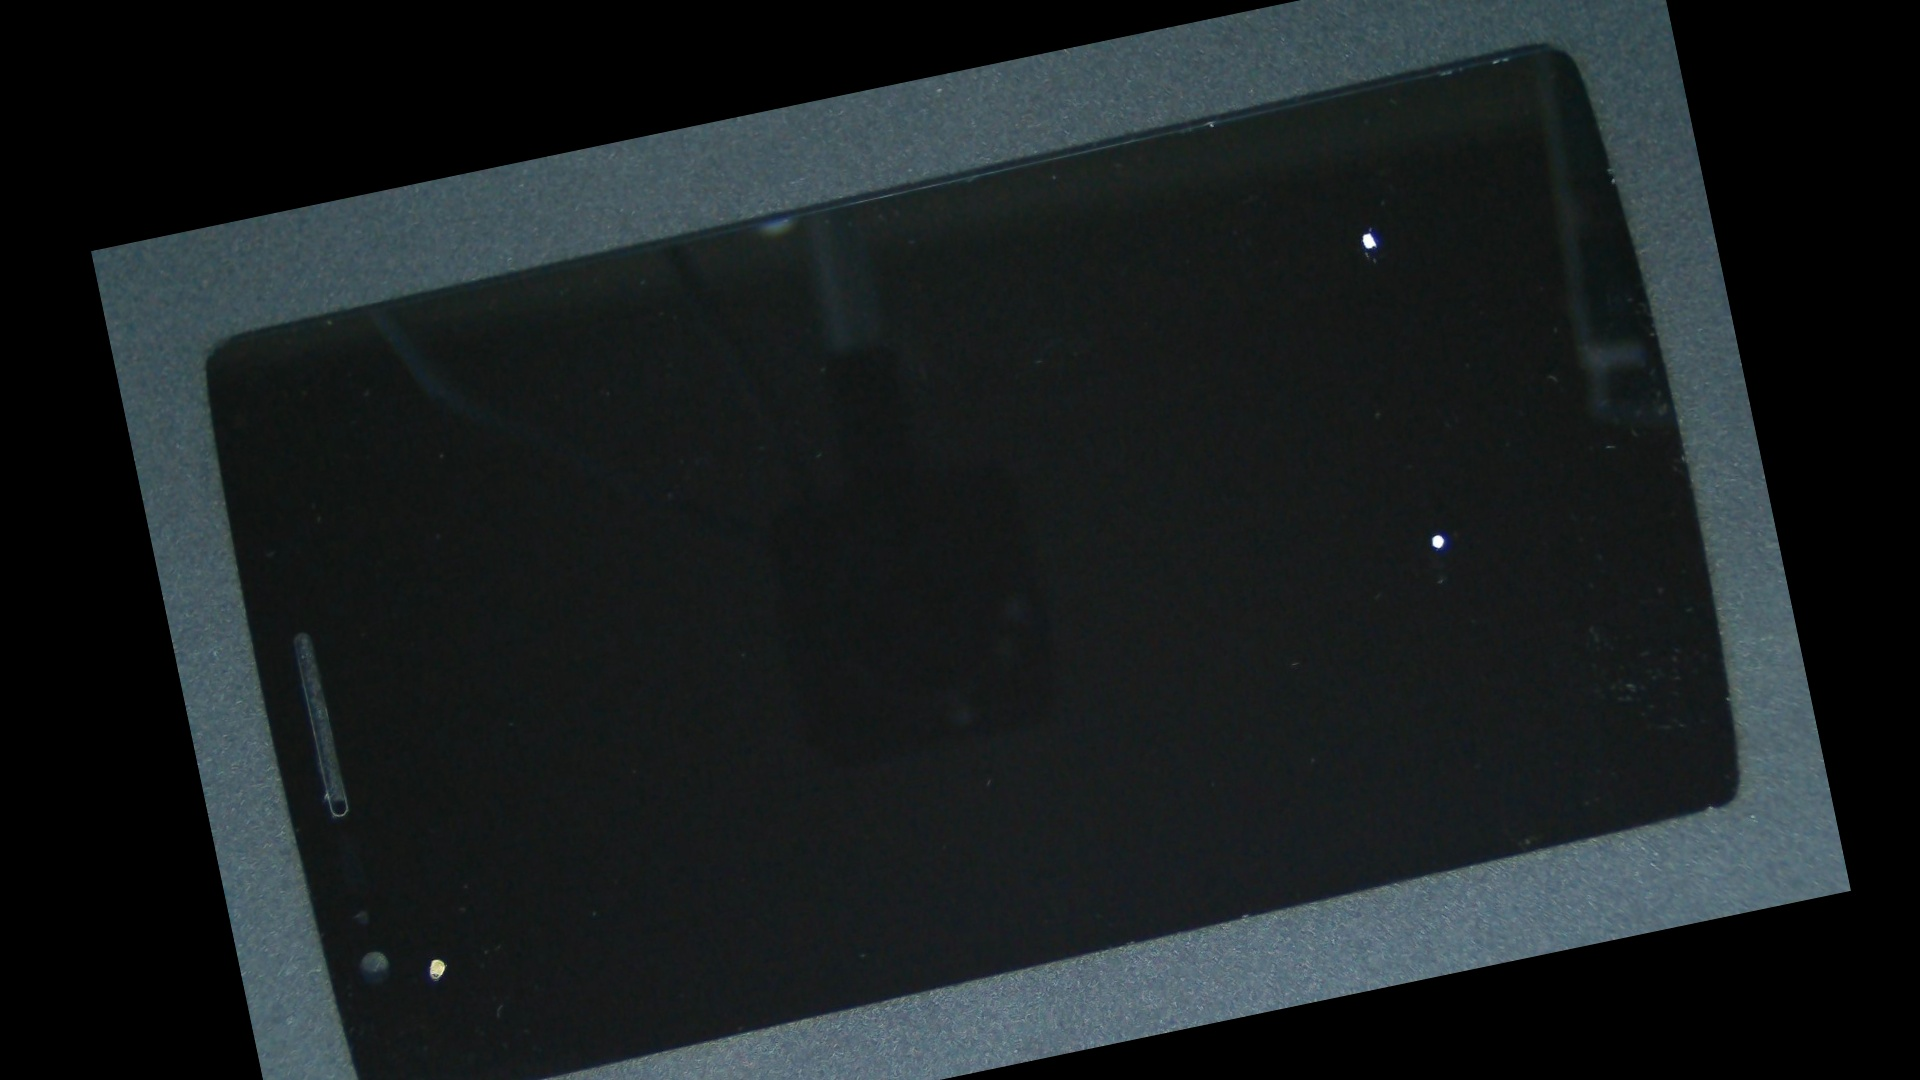oil: (764, 196, 1818, 932), (731, 45, 1725, 477), (265, 564, 579, 1080)
